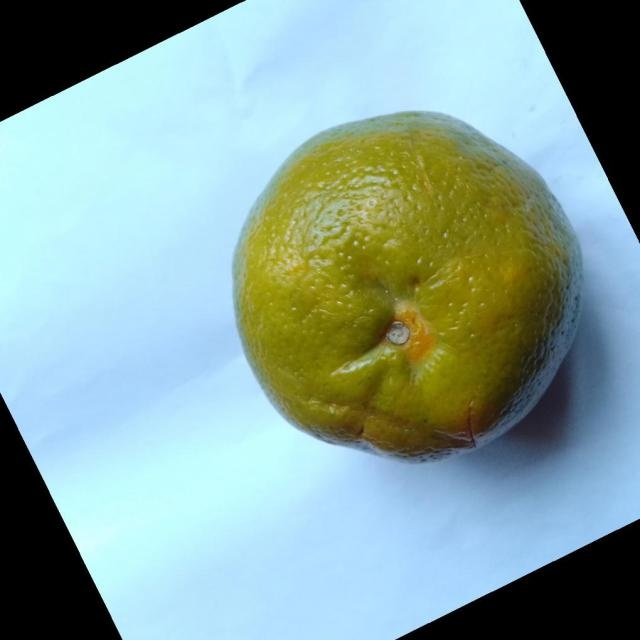agrume: (230, 108, 584, 464)
